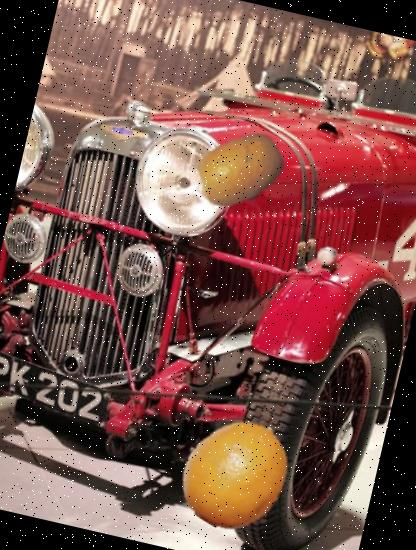Kumquats: (186, 116, 294, 224)
Lemon: (167, 405, 304, 542)
